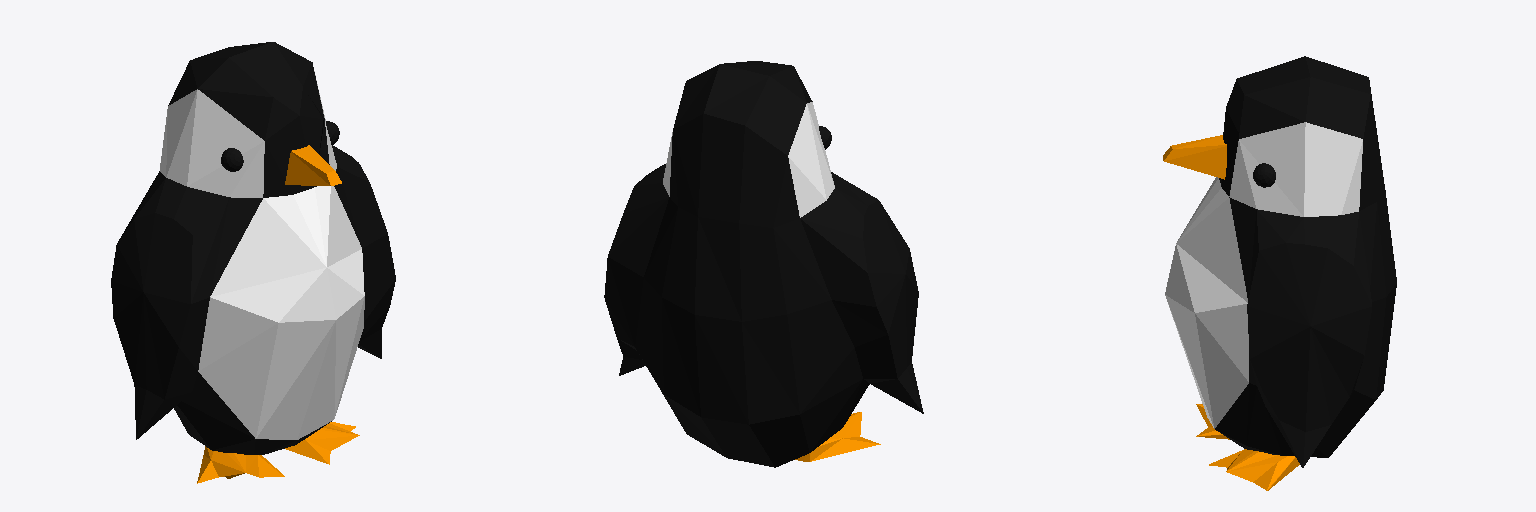
3 renders of one model, left to right at view 1: azimuth 30°, elevation 25°; view 2: azimuth 150°, elevation 25°; view 3: azimuth 270°, elevation 25°, orthographic.
Parts seen in each view (by area): view 1: mesh[number redacted], mesh[number redacted], mesh[number redacted], mesh[number redacted]; view 2: mesh[number redacted], mesh[number redacted]; view 3: mesh[number redacted], mesh[number redacted], mesh[number redacted].
Part boxes in pixels (x1,y1,x2,y2): mesh[number redacted]: (111,42,395,454); mesh[number redacted]: (197,446,284,483); mesh[number redacted]: (285,145,341,185); mesh[number redacted]: (285,422,359,464); mesh[number redacted]: (604,61,923,467); mesh[number redacted]: (795,412,880,461); mesh[number redacted]: (1165,56,1396,467); mesh[number redacted]: (1209,449,1299,490); mesh[number redacted]: (1163,135,1226,179).
Bounding box in the file's own units: 0.4997 × 0.6759 × 0.3678.